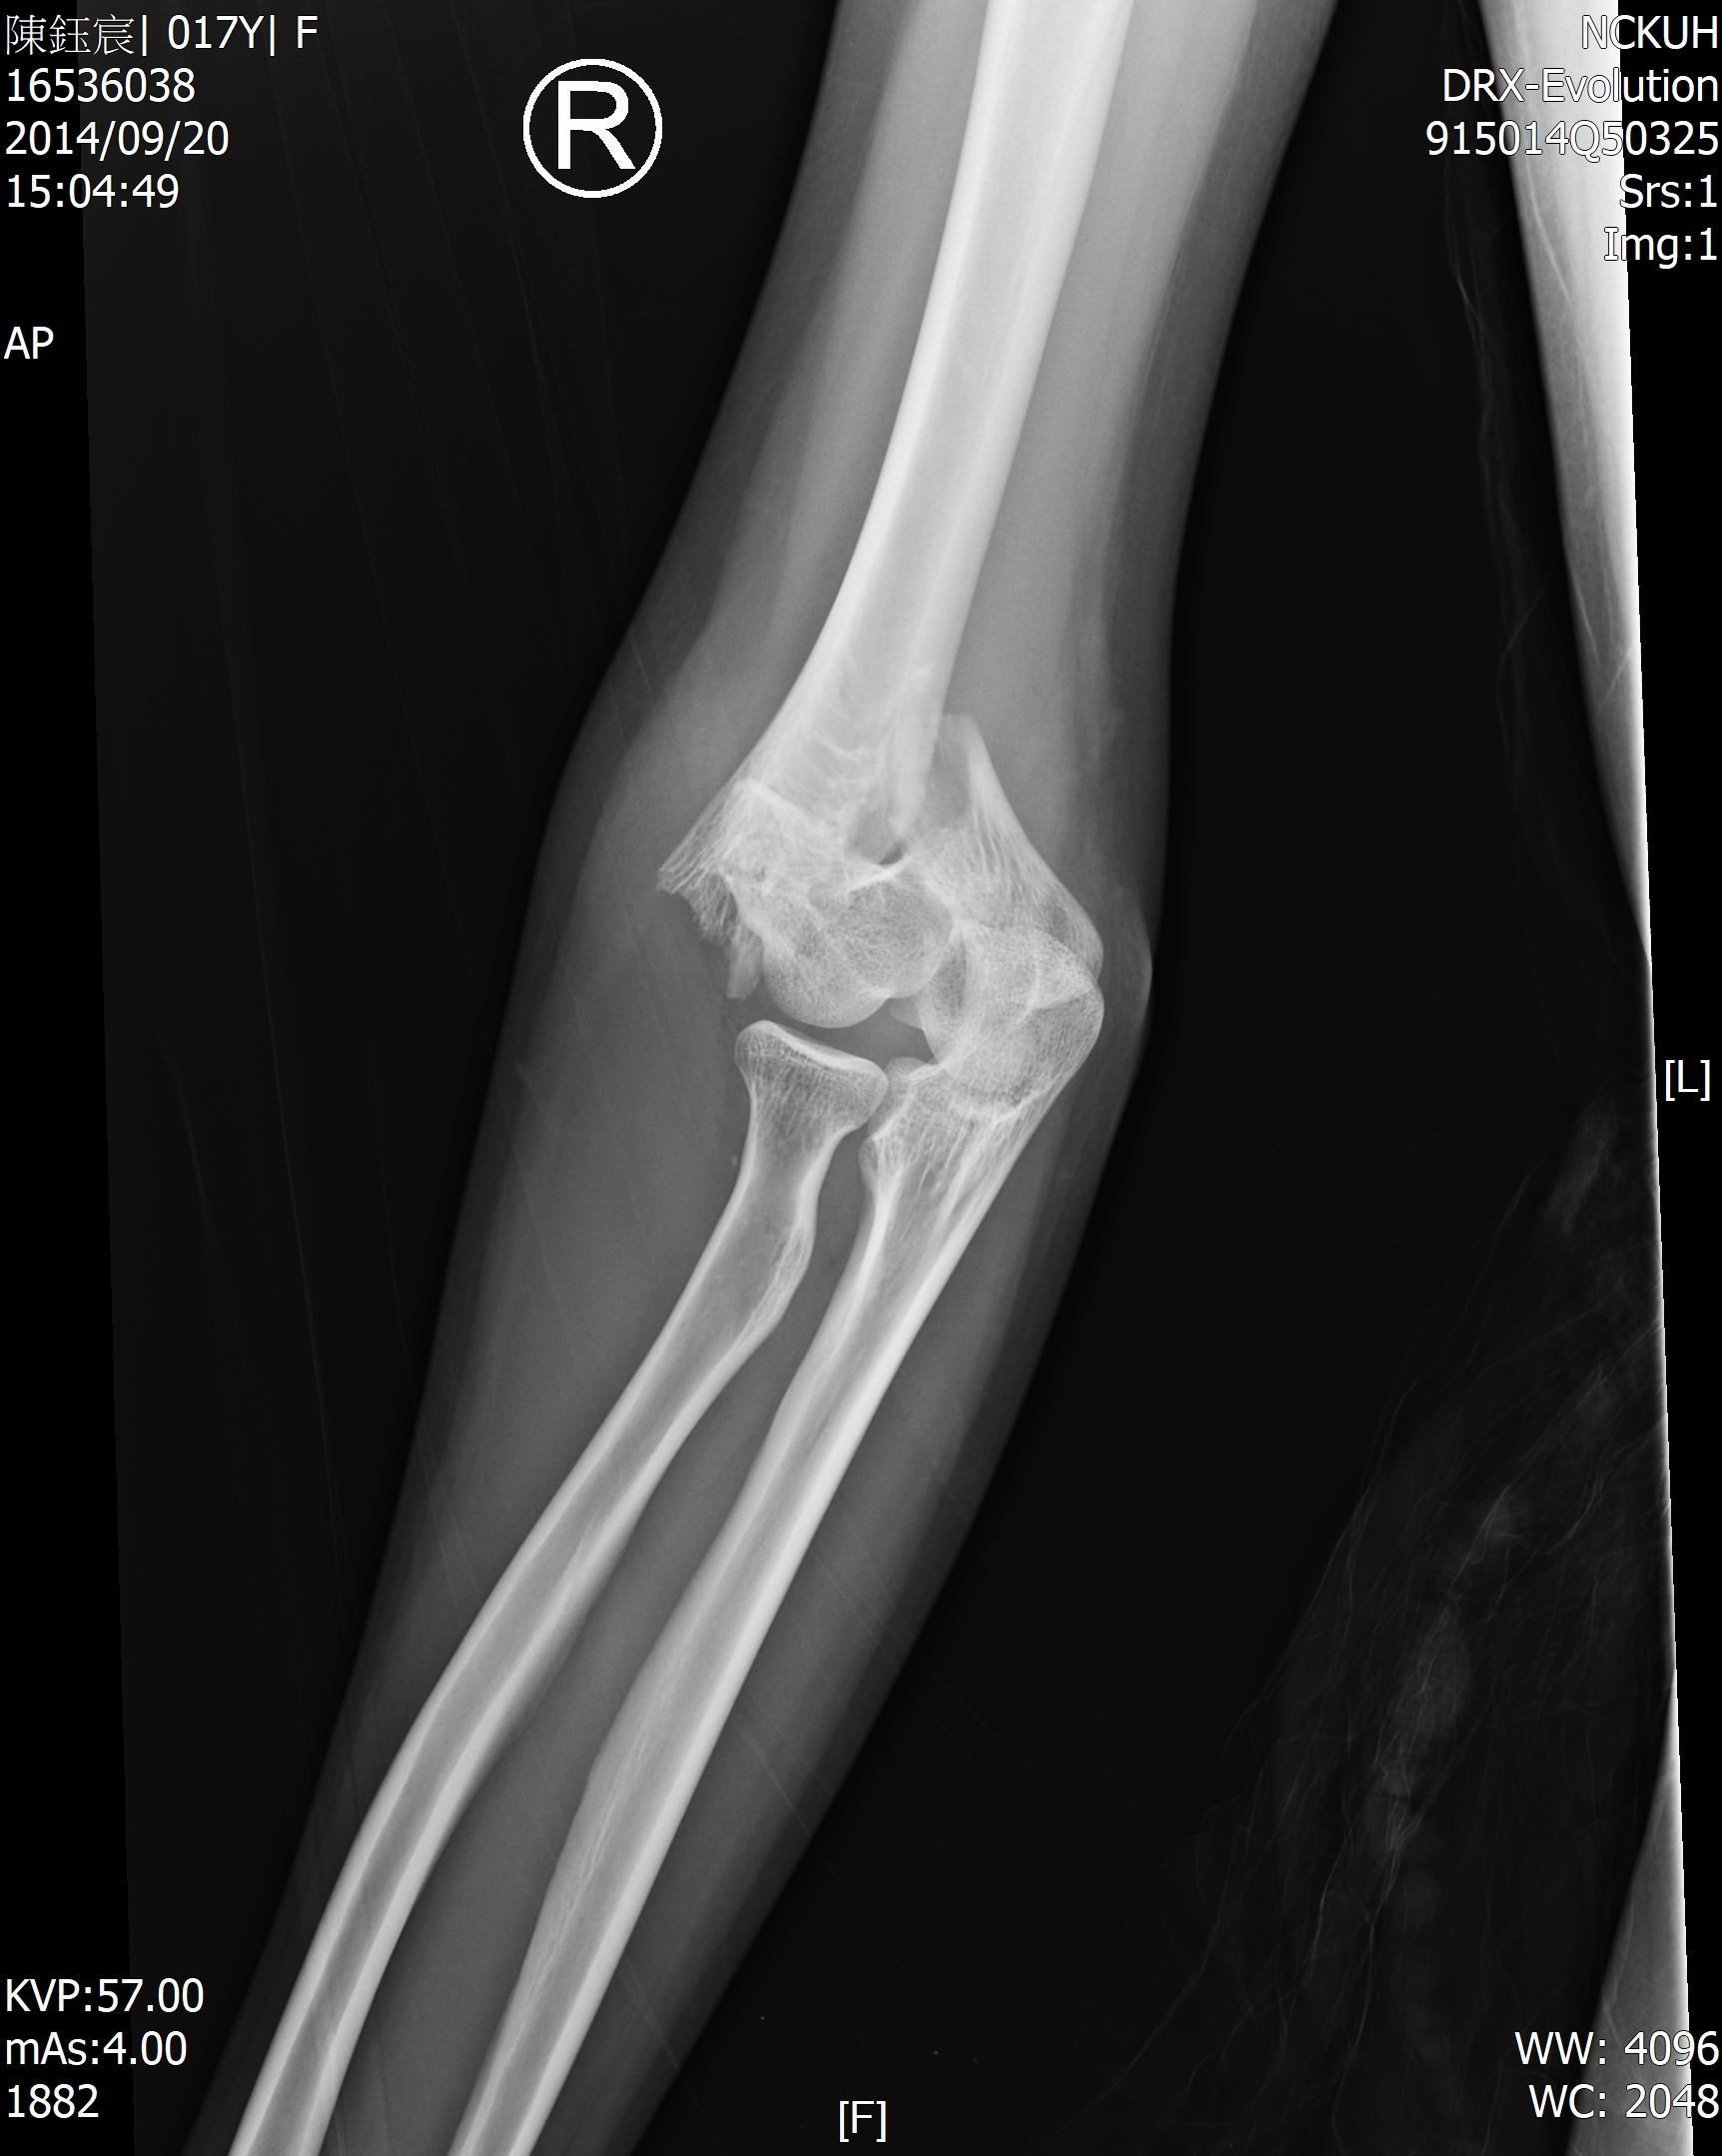SCF type 3: (496, 548, 1234, 1353)
